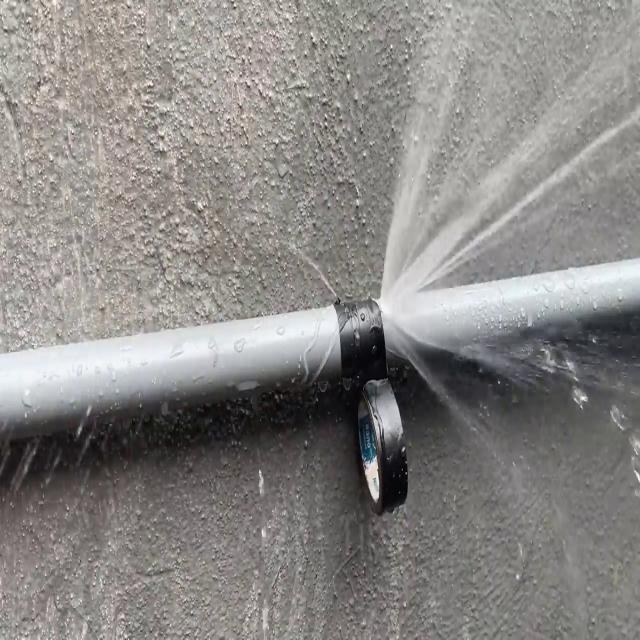leak: (377, 0, 640, 616)
